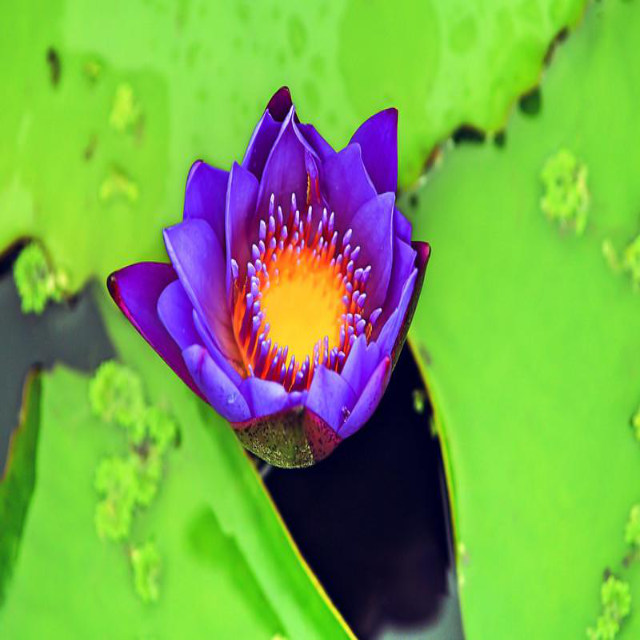water_lily: (102, 84, 433, 481)
